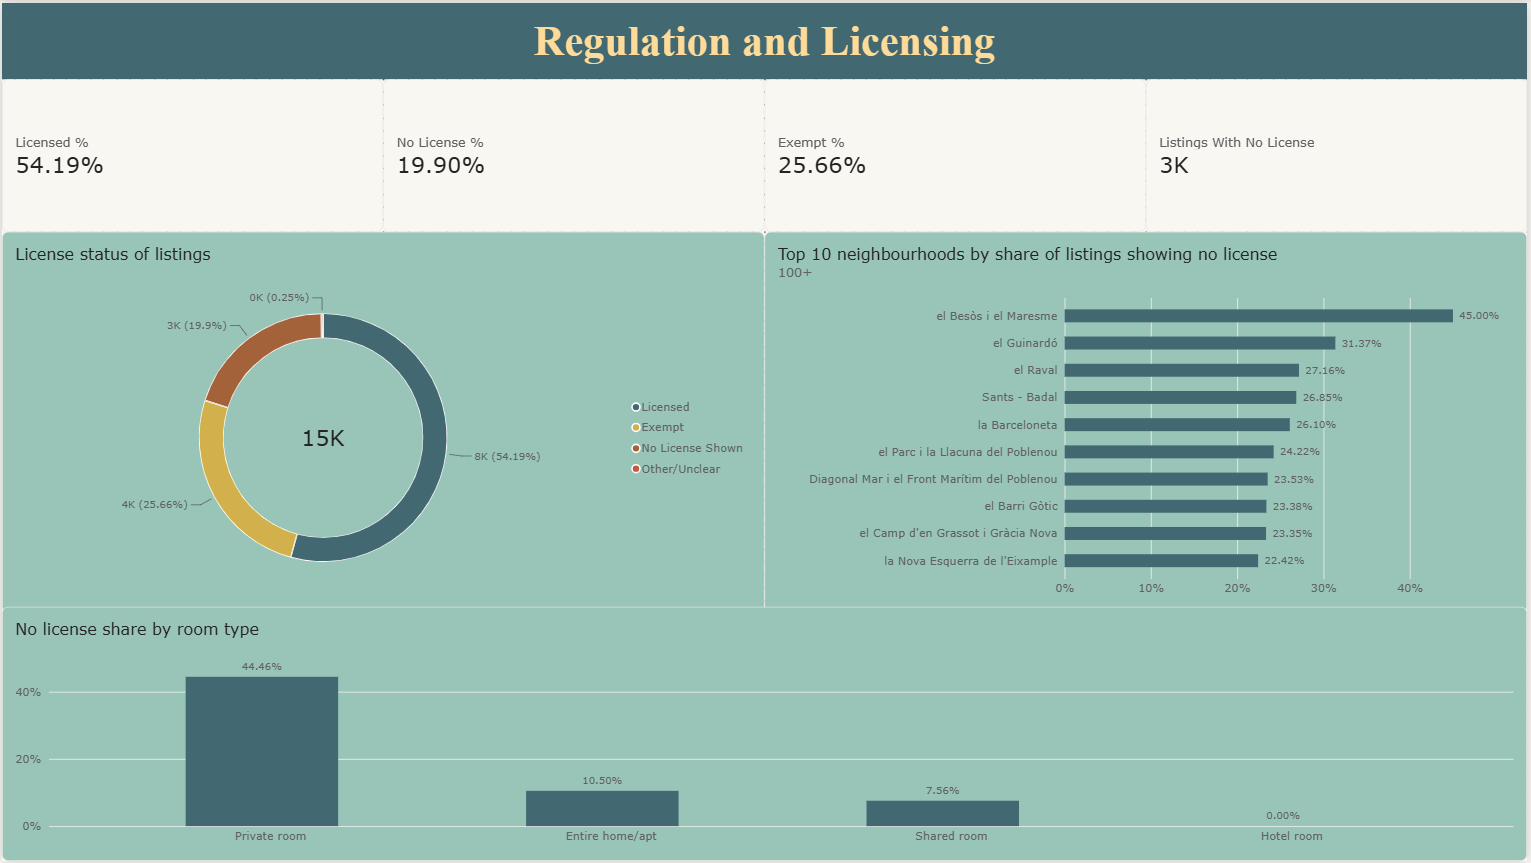

This screenshot's page, from the dashboard's own definition file:
{"tool":"powerbi","page":{"name":"Regulation and Licensing","canvas":[1920,1080],"ordinal":1},"visuals":[{"type":"textbox","box":[0,0,1920,96],"z":0},{"type":"cardVisual","fields":{"Data":["fact_listings.Licensed %"]},"box":[0,96,480,192],"z":1000},{"type":"cardVisual","fields":{"Data":["fact_listings.No License %"]},"box":[480,96,480,192],"z":2000},{"type":"cardVisual","fields":{"Data":["fact_listings.Listings With No License"]},"box":[1440,96,480,192],"z":3000},{"type":"cardVisual","fields":{"Data":["fact_listings.Exempt %"]},"box":[960,96,480,192],"z":4000},{"type":"donutChart","title":"License status of listings","fields":{"Category":["fact_listings.license_status"],"Y":["fact_listings.Total Listings"]},"box":[0,288,960,480],"z":5000},{"type":"barChart","title":"Top 10 neighbourhoods by share of listings showing no license","fields":{"Category":["fact_listings.neighbourhood_cleansed"],"Y":["fact_listings.No License % (min 100)"]},"box":[960,288,960,480],"z":6000},{"type":"clusteredColumnChart","title":"No license share by room type","fields":{"Category":["fact_listings.room_type"],"Y":["fact_listings.No License %"]},"box":[0,760,1920,320],"z":7000}]}

Visuals, with their boxes in screenshot pixels (x1, y1, x2, y2), scaled from the page's 1920x1080 canvas onto the 1531x863 screenshot:
textbox: box=[0, 0, 1530, 77]
cardVisual - fact_listings.Licensed %: box=[0, 77, 383, 230]
cardVisual - fact_listings.No License %: box=[383, 77, 766, 230]
cardVisual - fact_listings.Listings With No License: box=[1148, 77, 1530, 230]
cardVisual - fact_listings.Exempt %: box=[766, 77, 1148, 230]
"License status of listings" donutChart: box=[0, 230, 766, 614]
"Top 10 neighbourhoods by share of listings showing no license" barChart: box=[766, 230, 1530, 614]
"No license share by room type" clusteredColumnChart: box=[0, 607, 1530, 862]
